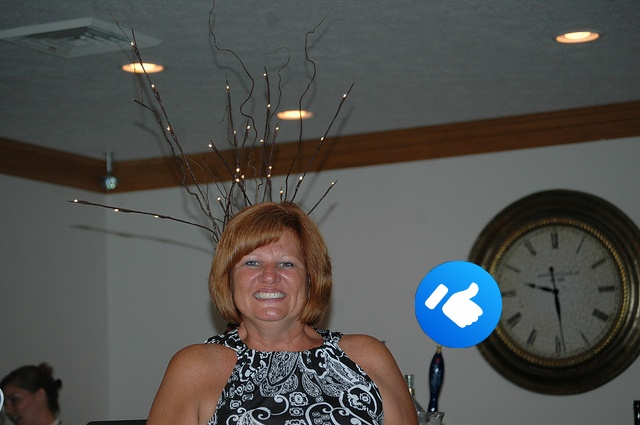like: (415, 261, 502, 348)
